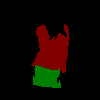gonna: (32, 64, 60, 88)
maglia: (30, 23, 69, 72)
